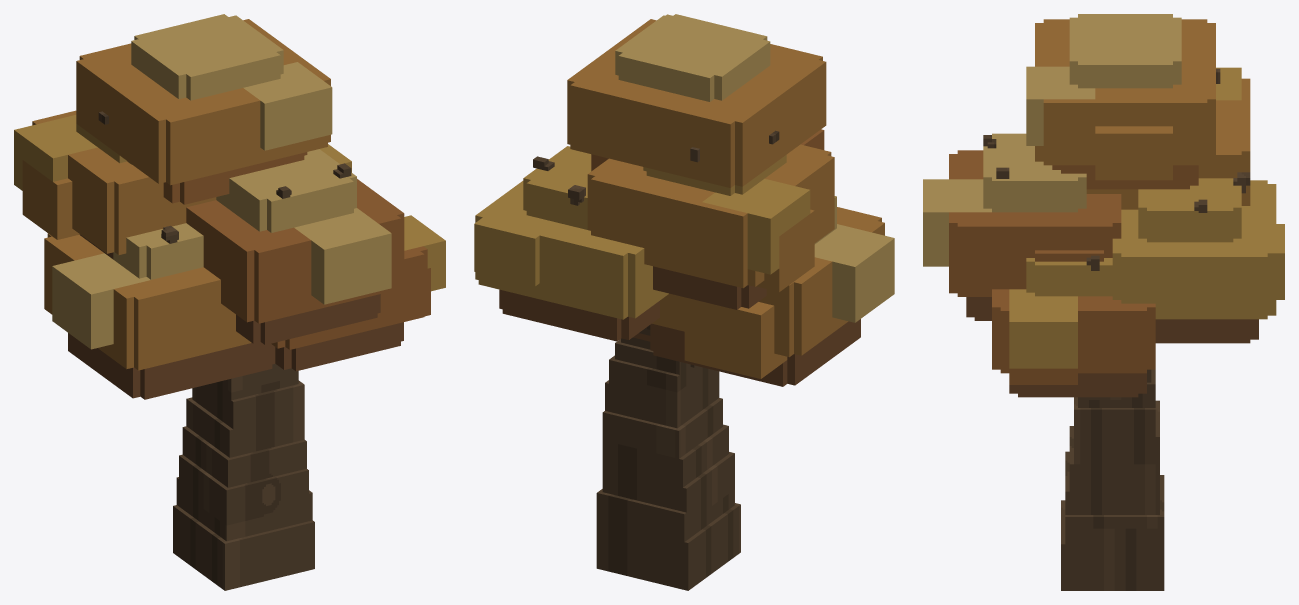
File: oak_mature_autumn_2.glb
3 renders of one model, left to right at view 1: azimuth 30°, elevation 25°; view 2: azimuth 150°, elevation 25°; view 3: azimuth 270°, elevation 25°, orthographic. The views are drawn at different scales.
Parts seen in each view (by area): view 1: VoxelVisual; view 2: VoxelVisual; view 3: VoxelVisual.
Boxes of the visible parts, x1=… form: VoxelVisual: x1=14, y1=14, x2=445, y2=590; VoxelVisual: x1=474, y1=14, x2=894, y2=590; VoxelVisual: x1=923, y1=14, x2=1284, y2=590.
Size of what is drawn, in the model's own units: 11.25 by 16.5 by 10.5.
